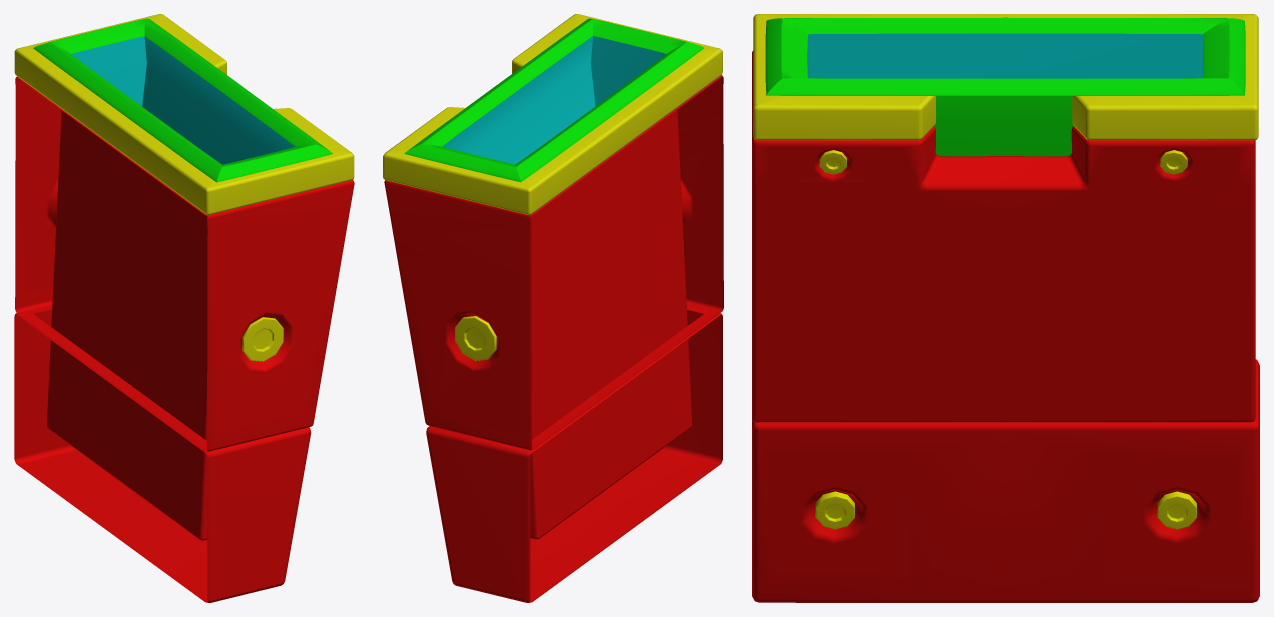
File: Bin.fbx
The picture shows the model from 3 angles, left to right: view 1: azimuth 30°, elevation 25°; view 2: azimuth 150°, elevation 25°; view 3: azimuth 270°, elevation 25°; orthographic projection. The views are drawn at different scales.
Parts seen in each view (by area): view 1: Bin_Base, Bin_Container; view 2: Bin_Base, Bin_Container; view 3: Bin_Base, Bin_Container.
Part boxes in pixels (x1,y1,x2,y2): Bin_Base: (14,14,354,602); Bin_Container: (33,18,332,182); Bin_Base: (383,14,723,602); Bin_Container: (404,18,703,182); Bin_Base: (752,14,1259,602); Bin_Container: (765,17,1245,156).
Size of the model in its own units: 24.12 by 65.65 by 54.62.
